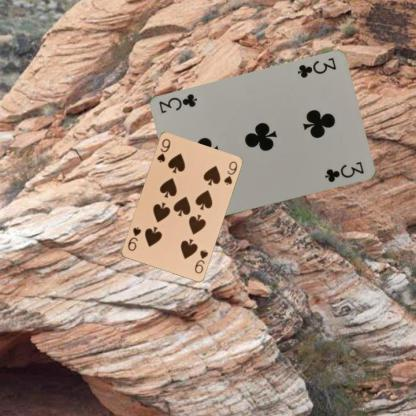3c: (294, 55, 338, 80)
9s: (154, 136, 172, 163), (192, 247, 209, 274)
